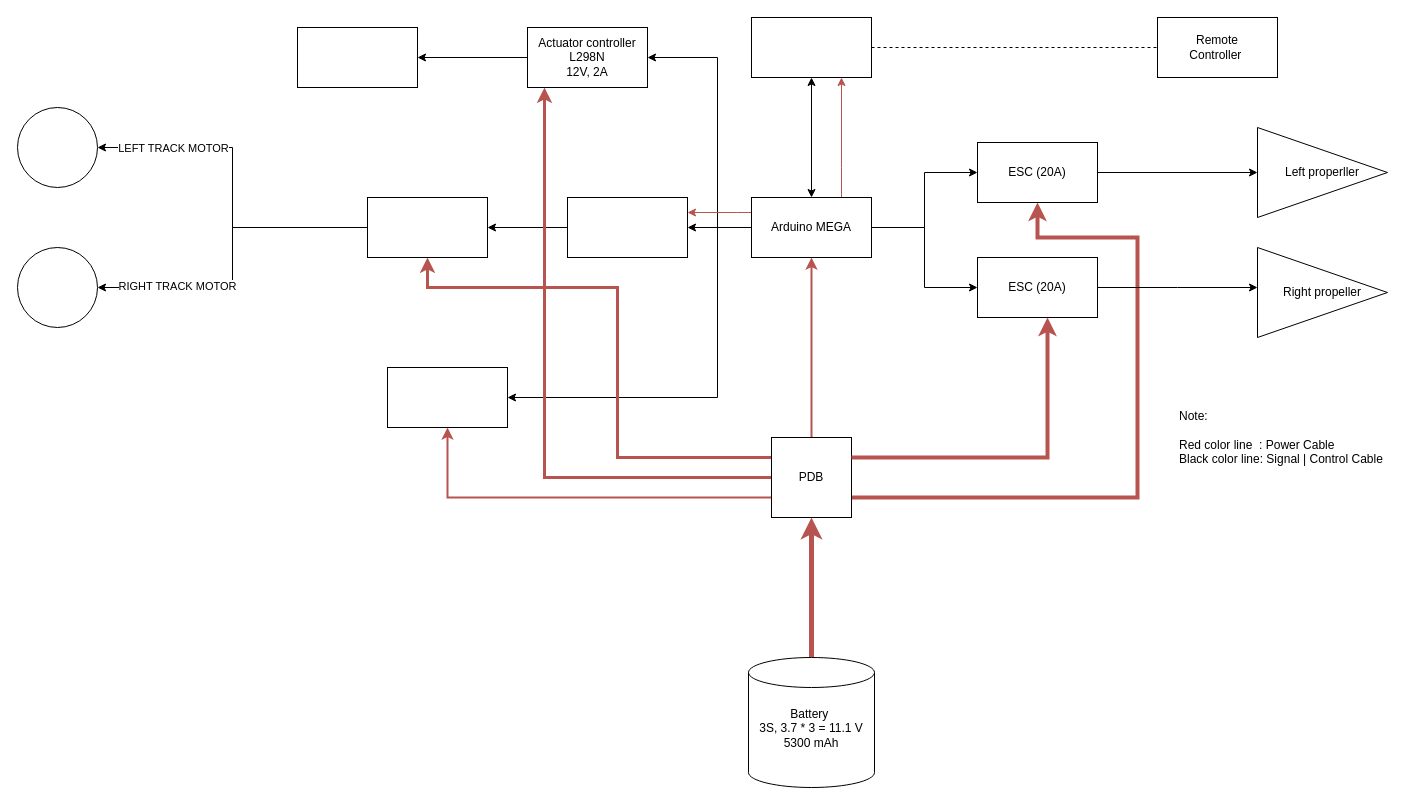
Image size: 1425x805. Some labels were removed from this diagram. The shapes that lost their labels are listed below. From the top down, each one's box as (x1, y1, x2, y2) in pixels, then its label:
(296, 26, 418, 88): Actuator
(750, 16, 872, 78): Wireless Tx Rx nRF24L01 range up to (100 meters)
(366, 196, 488, 258): Track Motor Controller 12V, 3A
(566, 196, 688, 258): Arduino UNO
(386, 366, 508, 428): Water pumps 12V, 1A
